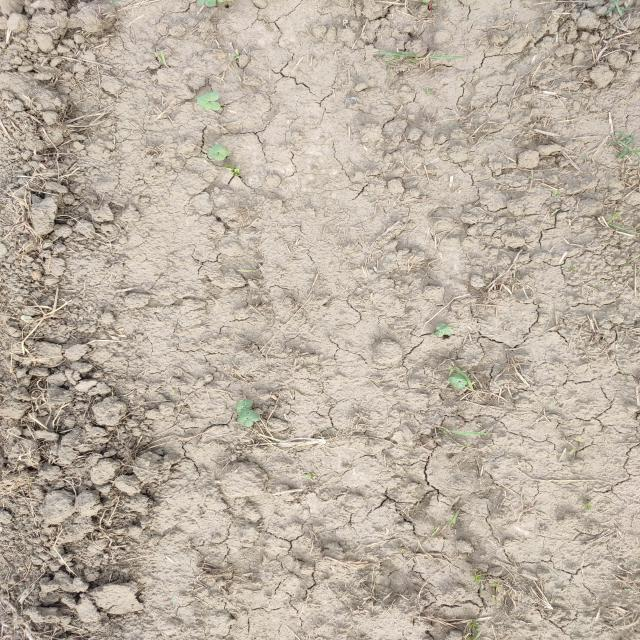seedling: (237, 408, 260, 421), (197, 91, 219, 103), (448, 377, 465, 390), (207, 144, 222, 158), (436, 323, 453, 335), (200, 101, 220, 111), (237, 415, 253, 427), (236, 399, 252, 410), (216, 148, 229, 161), (454, 374, 468, 385)
